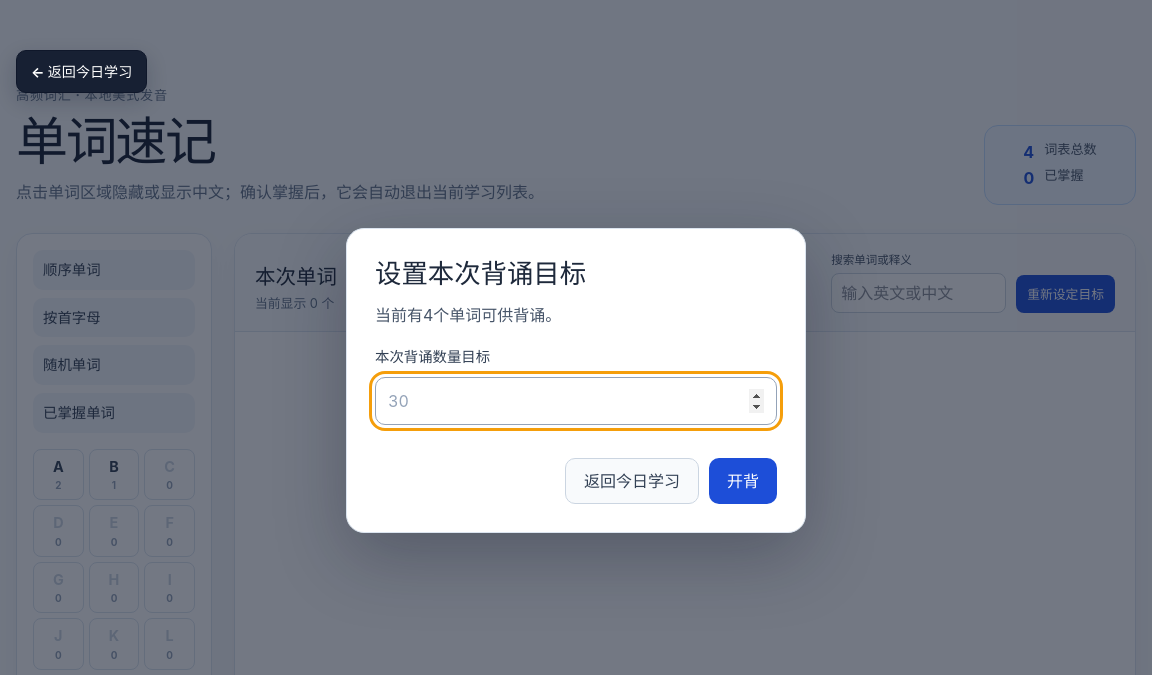
Test: WordQuickStudy › removes immediately without a burst when reduced motion is preferred
Replace the text in the number field labelled "本次背诵数量目标" with "2" at (576, 400), box x1=375 y1=376 x2=777 y2=424
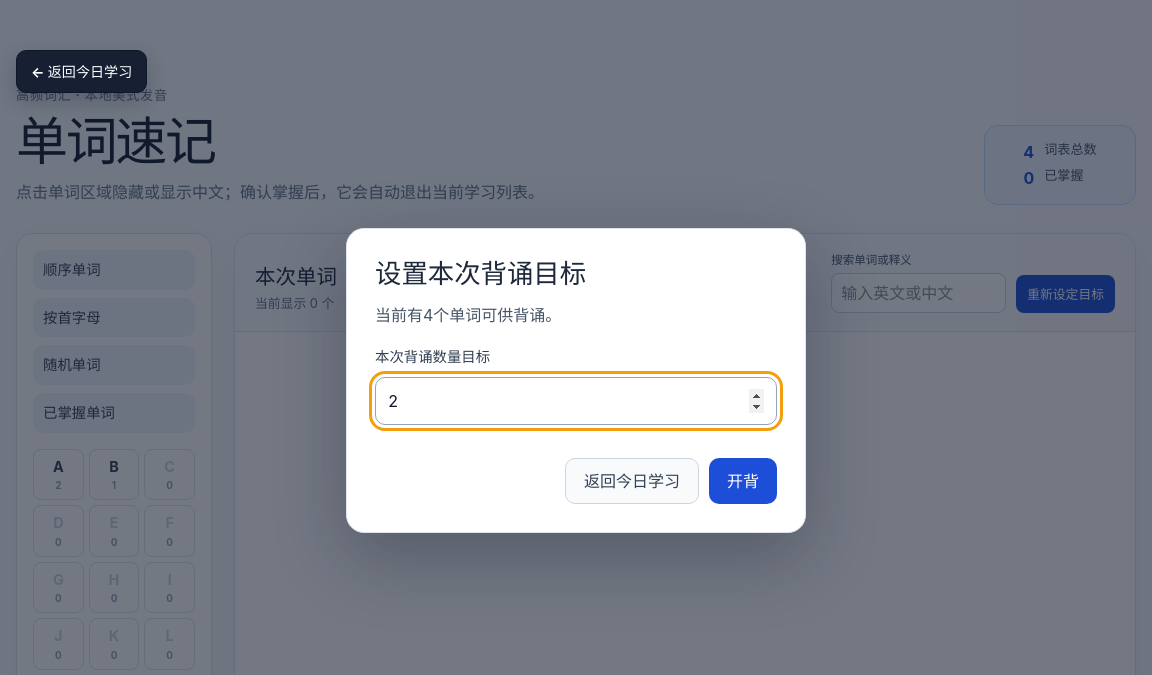
Click the button "开背".
click(743, 480)  # box x1=709 y1=458 x2=777 y2=504
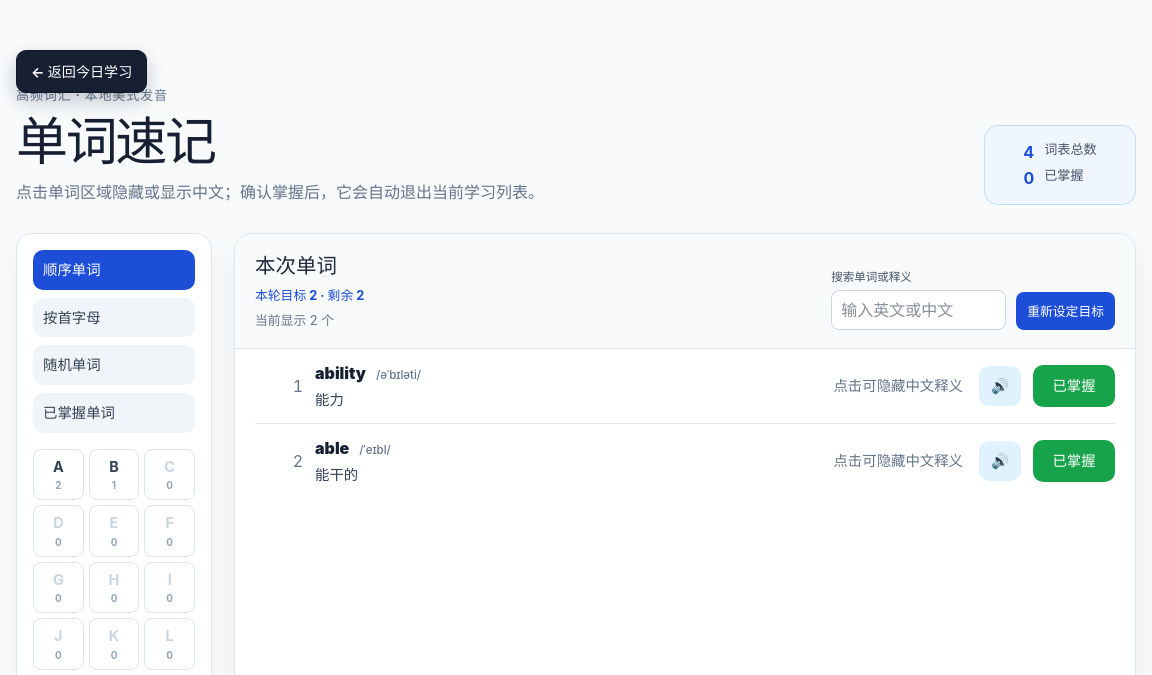
Click the button with aria-label "已掌握 ability".
click(1074, 386)  # box x1=1033 y1=365 x2=1115 y2=407
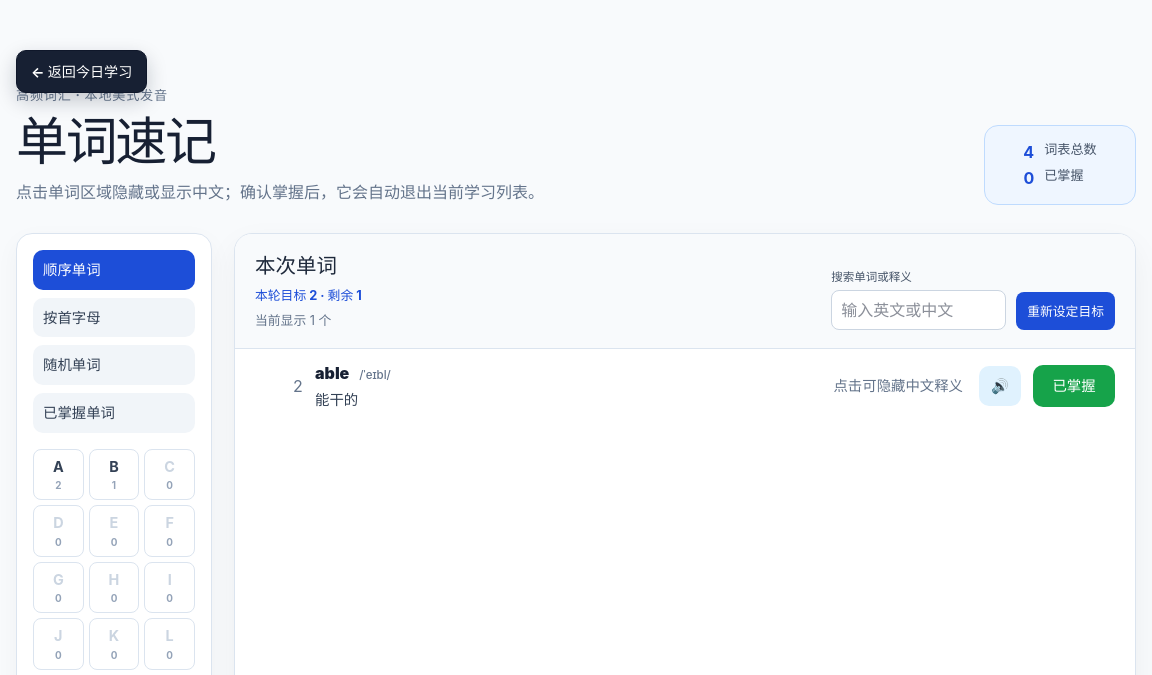
Expected: the button "ability" is gone
